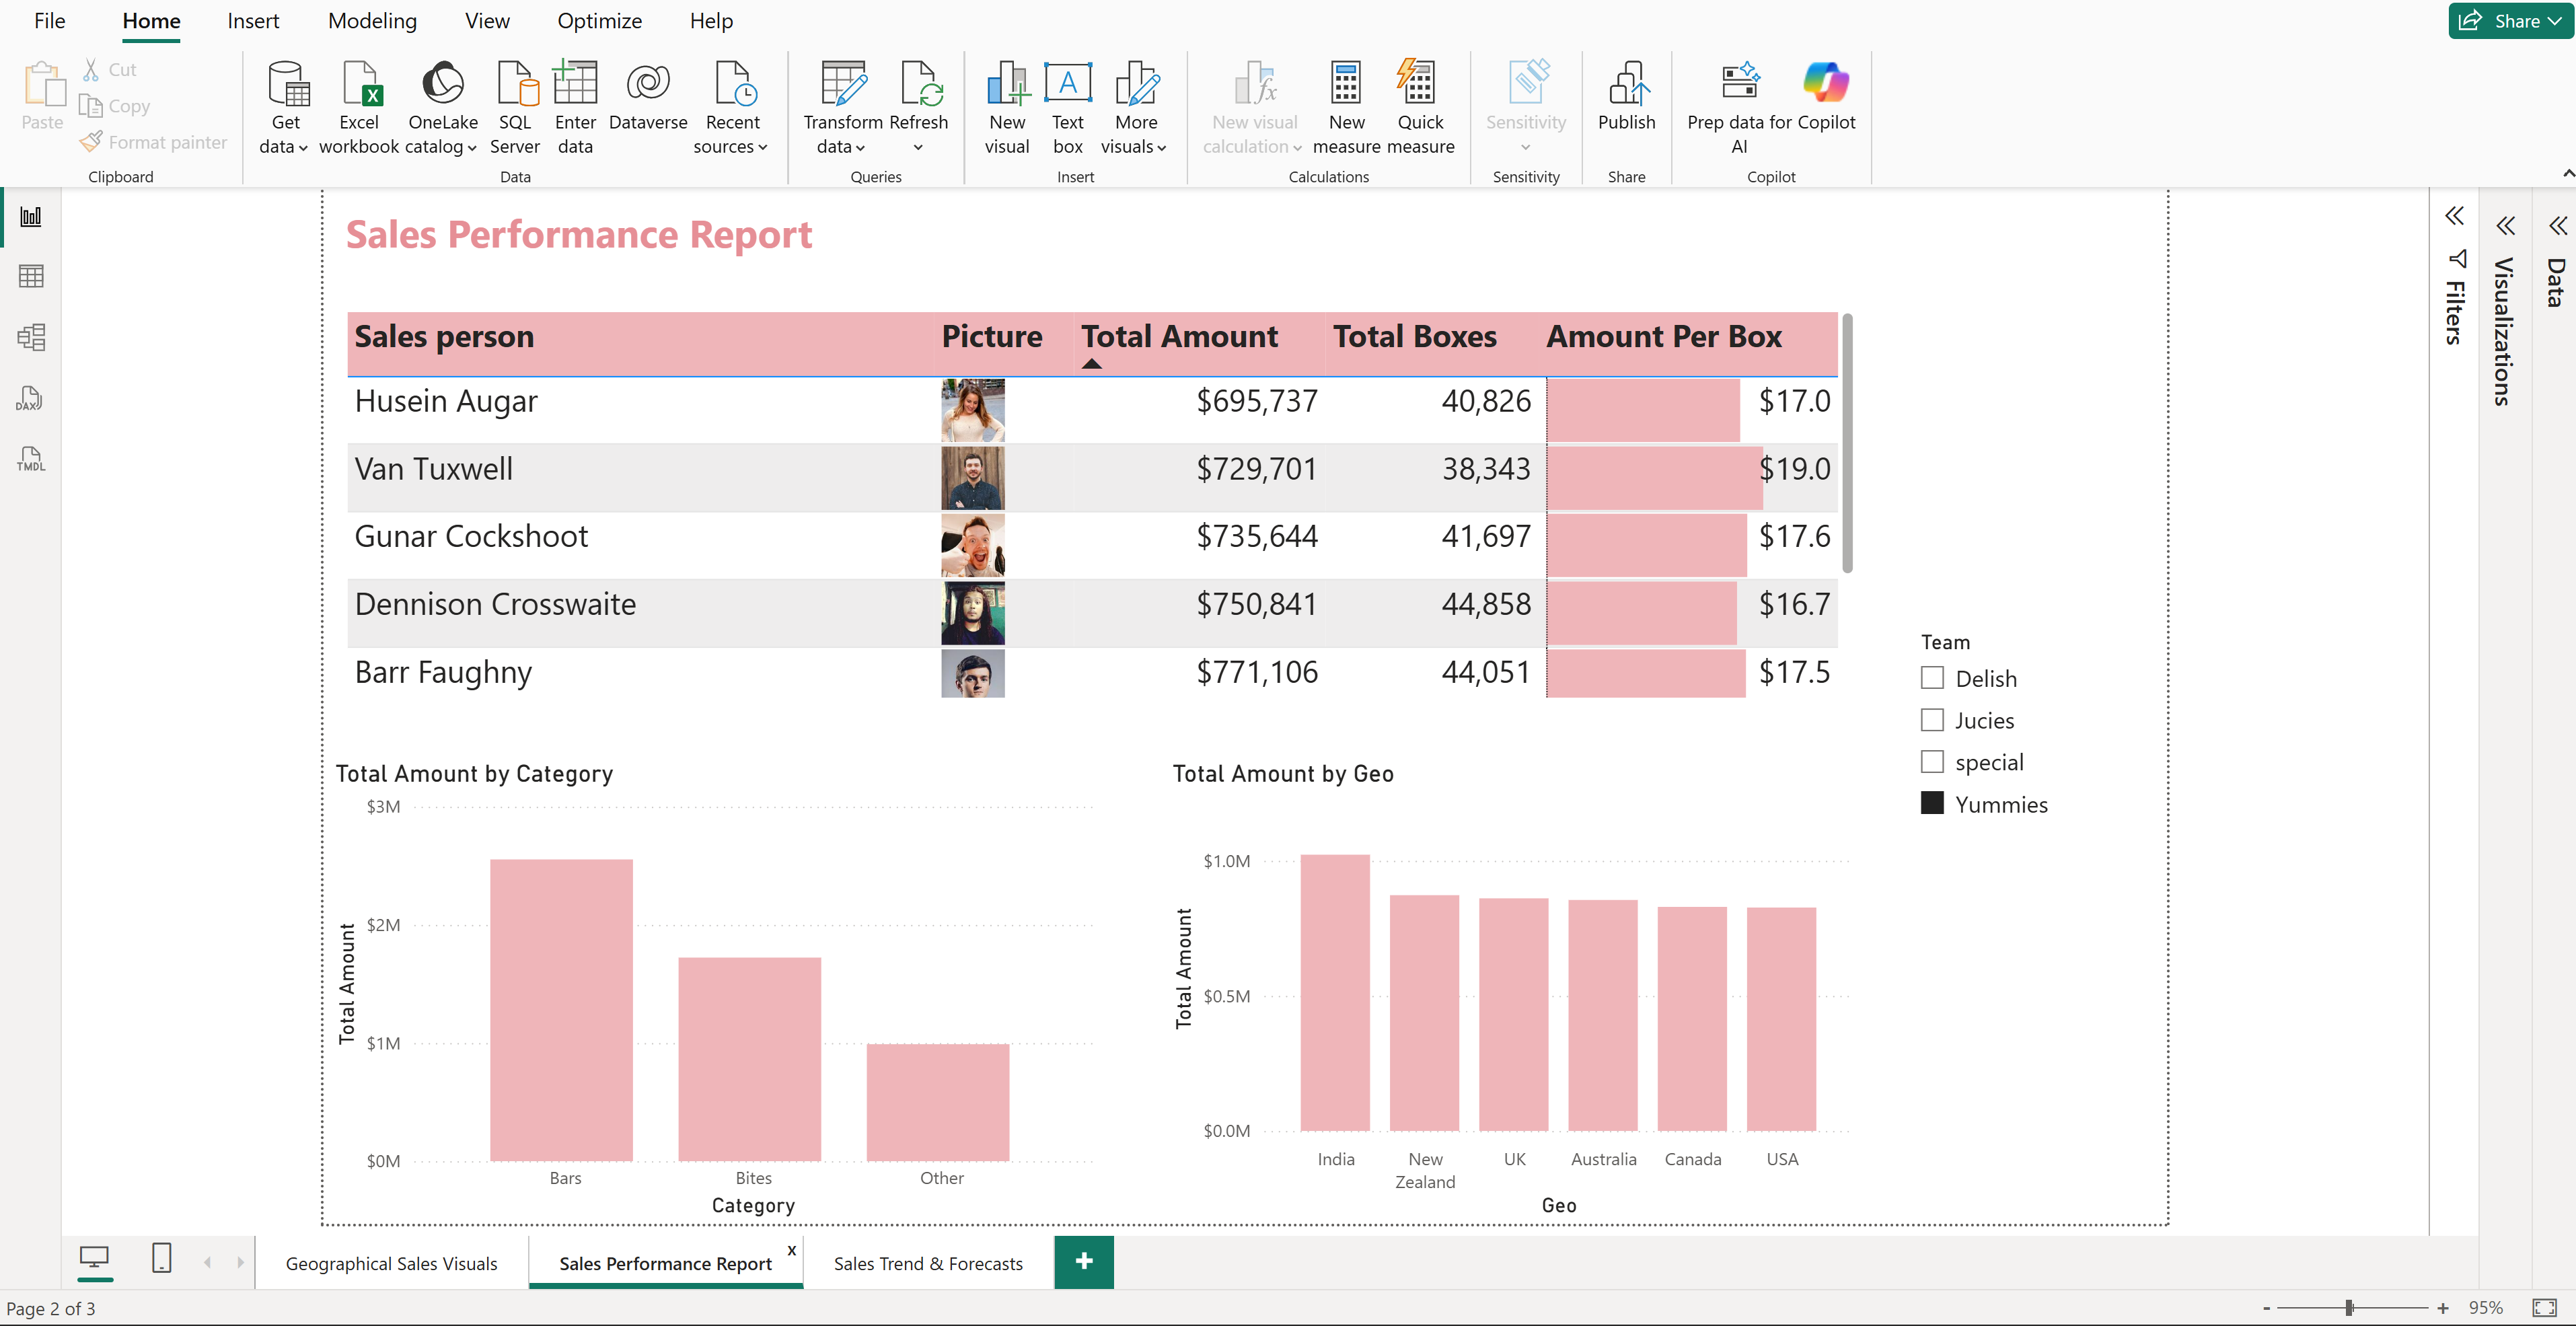

Layout of this report page (visuals, bound fields, positions):
{"tool":"powerbi","page":{"name":"Sales Performance Report","canvas":[1280,720],"ordinal":1},"visuals":[{"type":"tableEx","fields":{"Values":["people.Sales person","people.Picture","sales.Total Amount","sales.Total Boxes","sales.Amount Per Box"]},"box":[10.5,82,1057.6,277.5],"z":0},{"type":"slicer","fields":{"Values":["people.Team"]},"box":[1096.5,302.8,150.3,165.1],"z":1000},{"type":"columnChart","fields":{"Category":["products.Category"],"Y":["sales.Total Amount"]},"box":[3.2,397.4,536.2,322.7],"z":2000},{"type":"columnChart","fields":{"Category":["locations.Geo"],"Y":["sales.Total Amount"]},"box":[584.5,397.4,483.6,322.7],"z":3000},{"type":"textbox","box":[10.5,8.4,492,61],"z":4000}]}

Visuals, with their boxes on the page's 1280x720 design canvas (x1, y1, x2, y2). These are canvas units, not pixel positions in the 2576x1326 screenshot, which may show the page scaled, cropped or inside an application window:
tableEx - people.Sales person x people.Picture: [left=10, top=82, right=1068, bottom=360]
slicer - people.Team: [left=1096, top=303, right=1247, bottom=468]
columnChart - products.Category x sales.Total Amount: [left=3, top=397, right=539, bottom=720]
columnChart - locations.Geo x sales.Total Amount: [left=584, top=397, right=1068, bottom=720]
textbox: [left=10, top=8, right=502, bottom=69]
